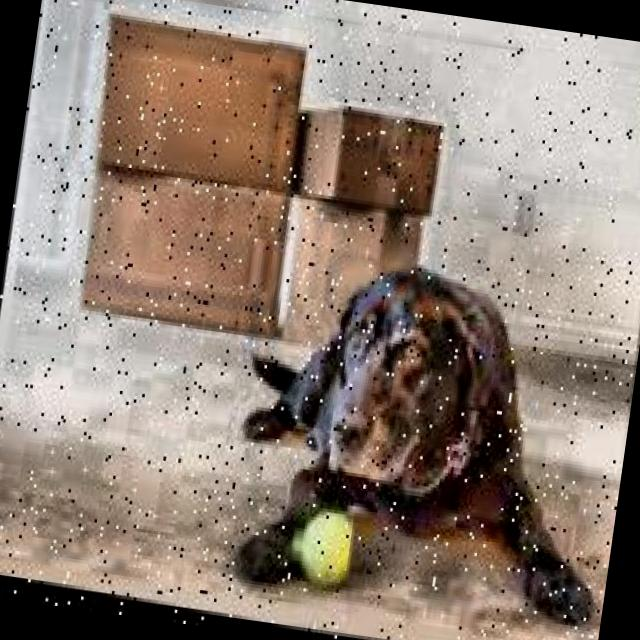Tennis Ball: (284, 502, 357, 604)
